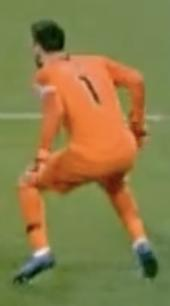goalkeeper: (12, 4, 170, 306)
